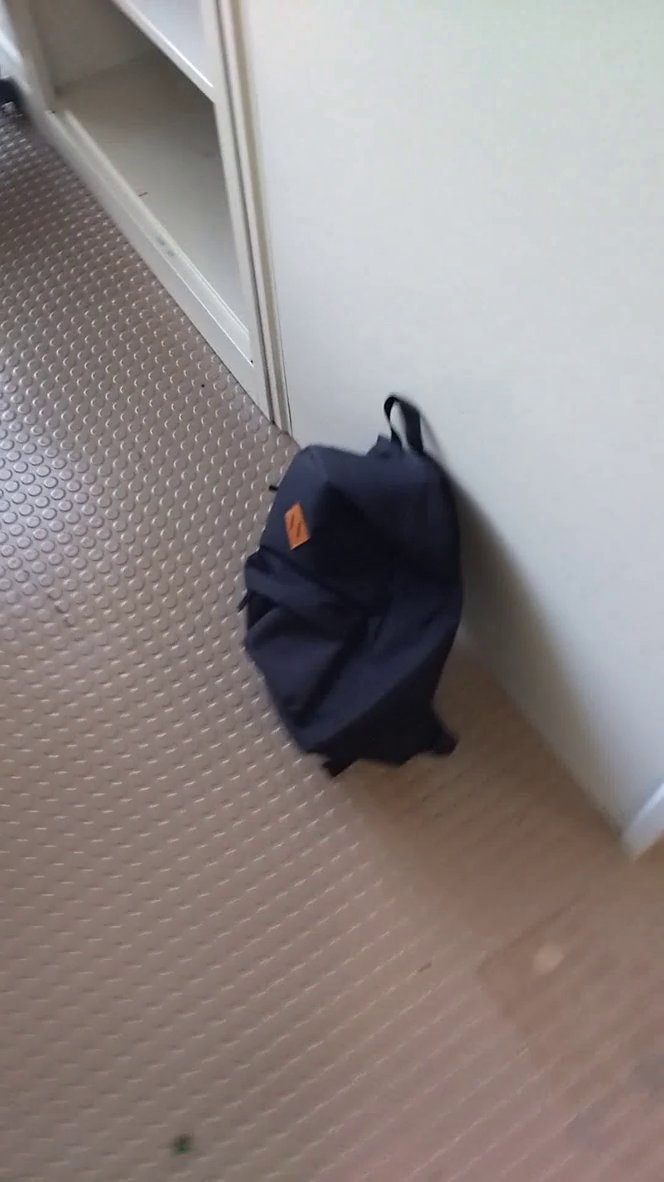bag: (224, 391, 513, 808)
